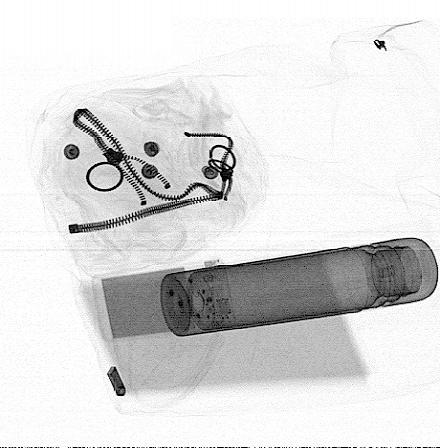Powerbank: (90, 259, 237, 343)
